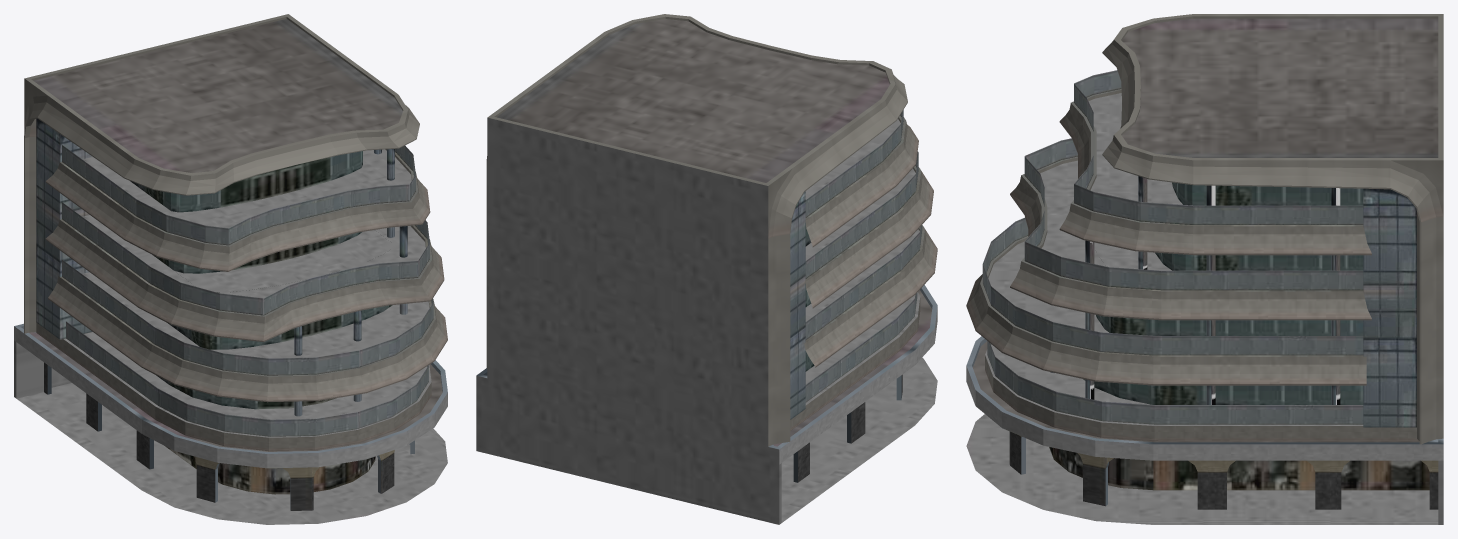
3 views of the same model, side by side, from view 1: azimuth 30°, elevation 25°; view 2: azimuth 150°, elevation 25°; view 3: azimuth 270°, elevation 25° (orthographic). The views are drawn at different scales.
Visible parts, largest first — view 1: HN1241_NhaHamCaMap; view 2: HN1241_NhaHamCaMap; view 3: HN1241_NhaHamCaMap.
Part boxes in pixels (box(x1,y1,x2,y2)): HN1241_NhaHamCaMap: box(14, 14, 447, 524); HN1241_NhaHamCaMap: box(476, 14, 937, 524); HN1241_NhaHamCaMap: box(966, 14, 1443, 524).
Size of the model in its own units: 20.77 by 22.03 by 26.54.
1 material, 1 textured.
